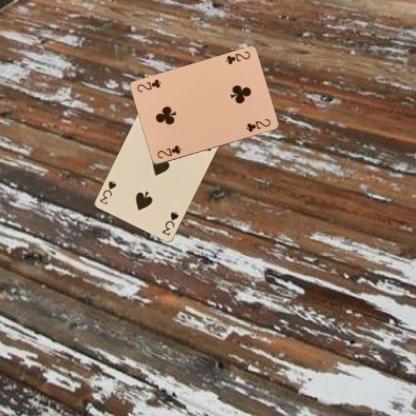2c: (223, 48, 251, 66), (154, 143, 182, 160)
3s: (160, 209, 180, 237)
